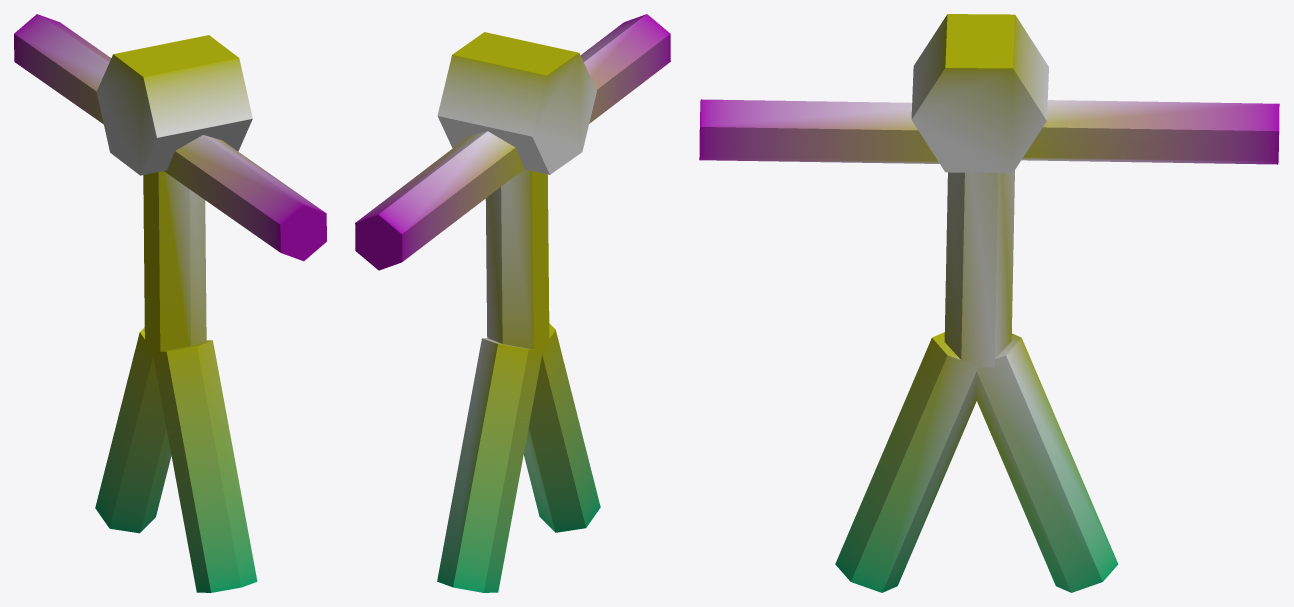
The model's file is hexman.glb.
3 views of the same model, side by side, from view 1: azimuth 30°, elevation 25°; view 2: azimuth 150°, elevation 25°; view 3: azimuth 270°, elevation 25° (orthographic). The views are drawn at different scales.
Visible parts, largest first — view 1: Cylinder.005; view 2: Cylinder.005; view 3: Cylinder.005.
Boxes of the visible parts, left/top/right/bottom form: Cylinder.005: left=14, top=14, right=326, bottom=592; Cylinder.005: left=355, top=14, right=670, bottom=592; Cylinder.005: left=699, top=14, right=1279, bottom=592.
Size of the model in its own units: 0.3705 by 1.8 by 1.73.
